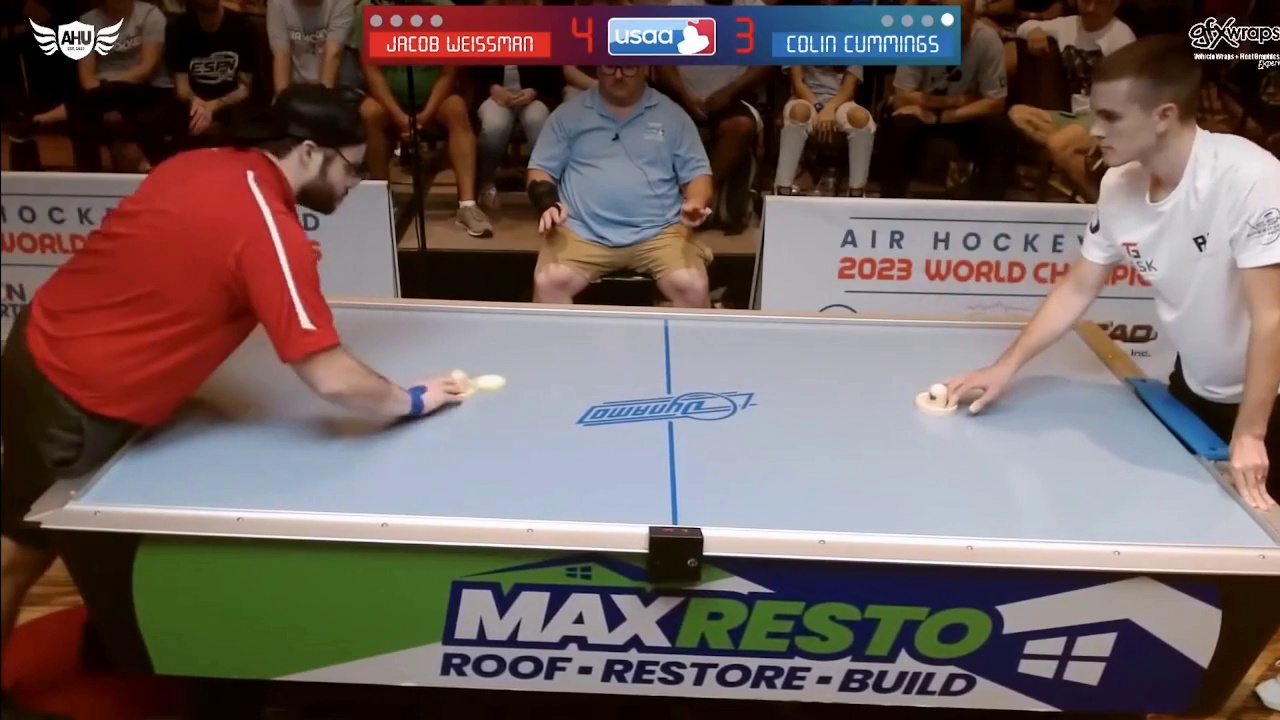player: (909, 383, 962, 417), (442, 370, 475, 397)
puck: (473, 369, 511, 393)
table: (102, 294, 1280, 564)
